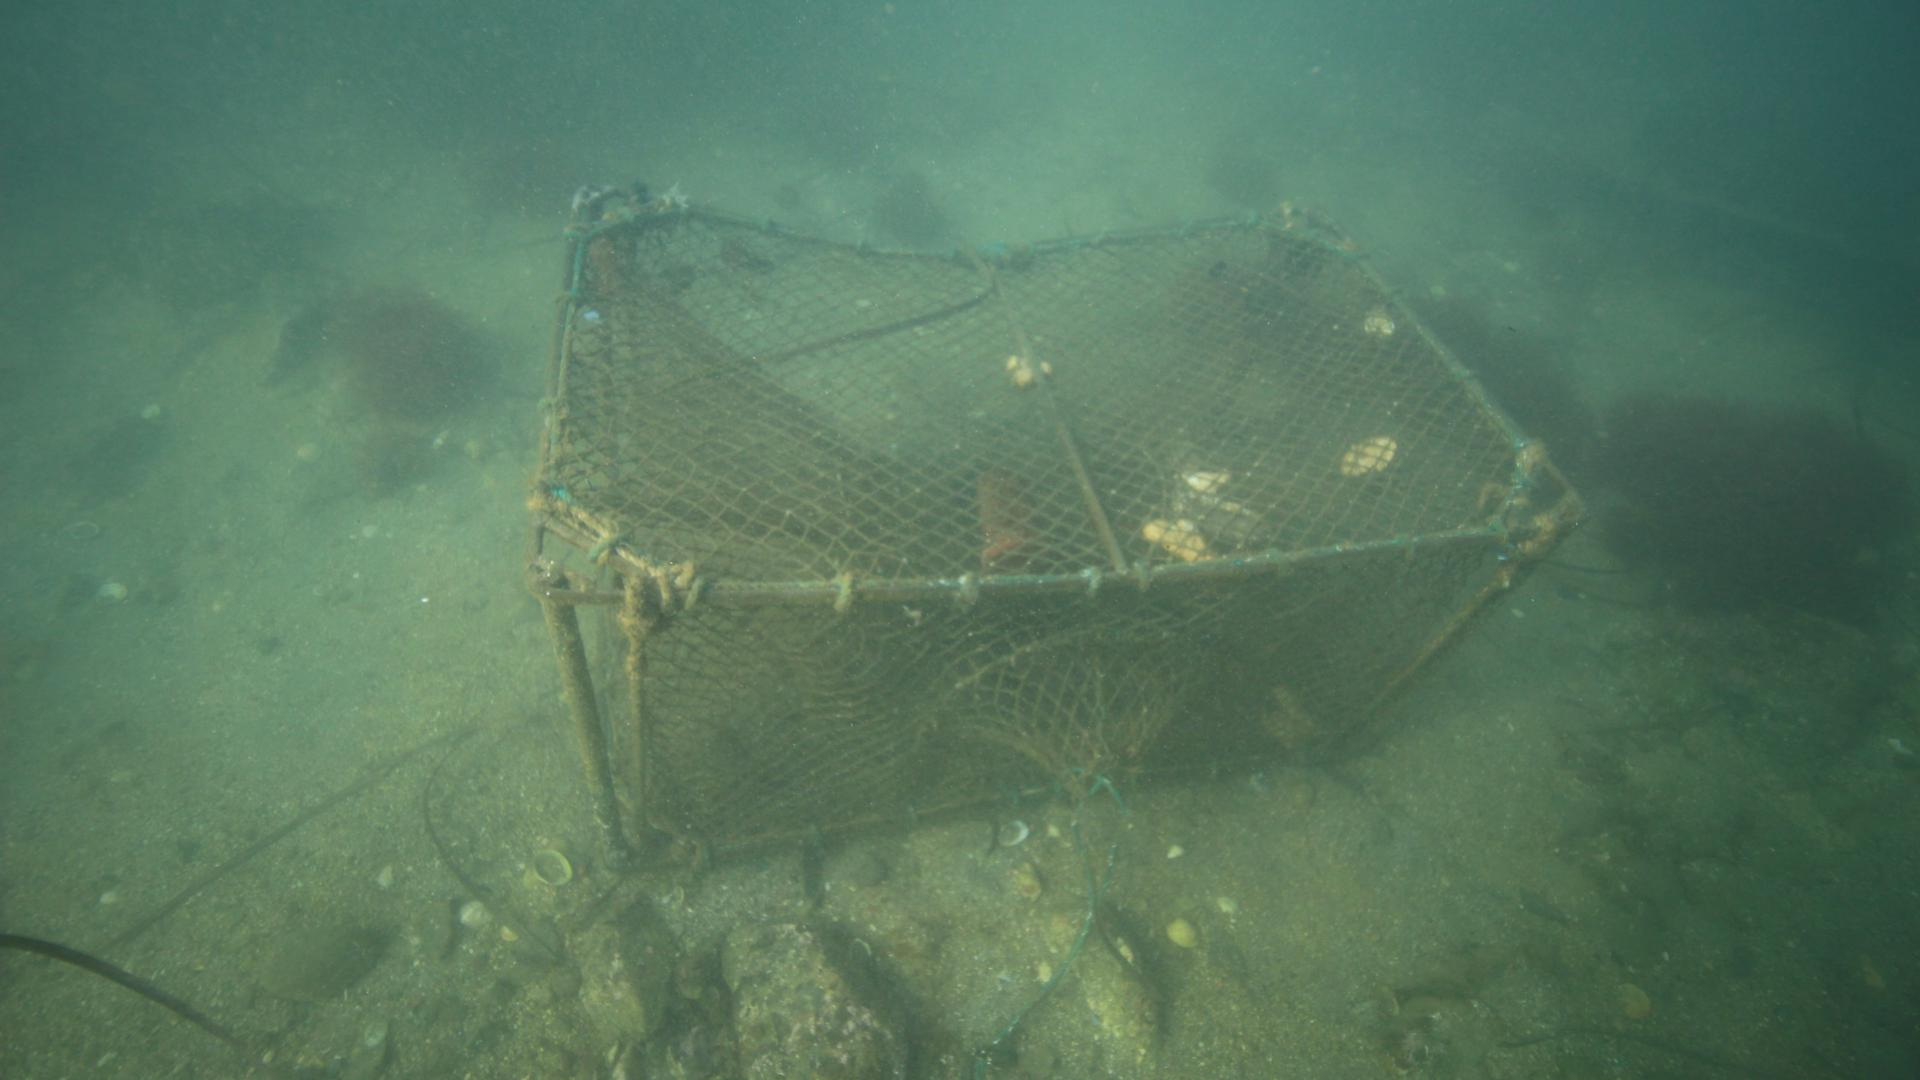rectangular fish trap: (517, 177, 1593, 876)
